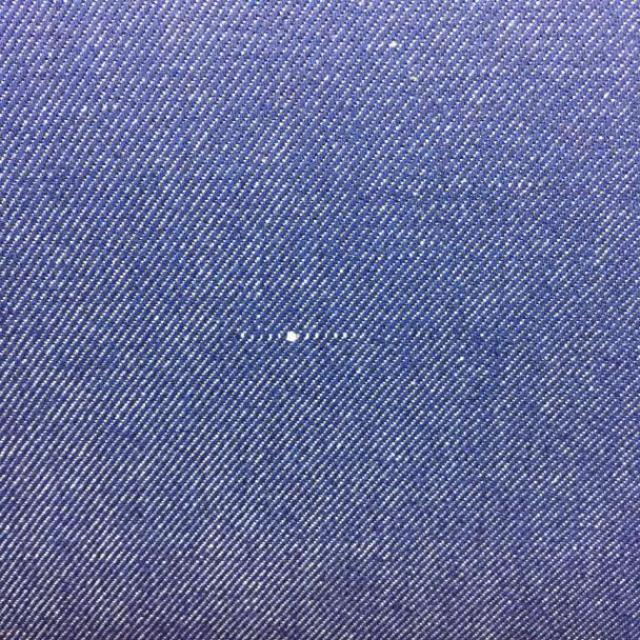Knot: (238, 329, 369, 346)
